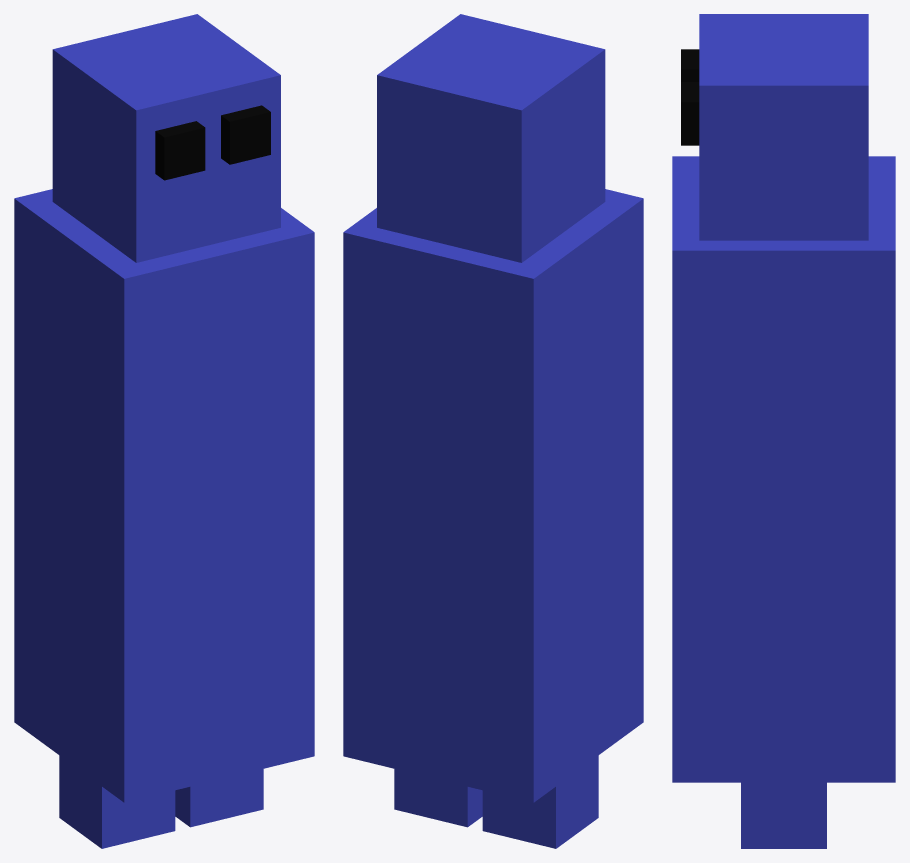
Rendered from PlayerModel_V2.fbx.
3 views of the same model, side by side, from view 1: azimuth 30°, elevation 25°; view 2: azimuth 150°, elevation 25°; view 3: azimuth 270°, elevation 25° (orthographic).
Visible parts, largest first — view 1: root (×6); view 2: root (×4); view 3: root (×5).
Part boxes in pixels (bbox=[...]): root (×6): bbox=[14, 14, 314, 848]; root (×4): bbox=[343, 14, 643, 848]; root (×5): bbox=[672, 14, 895, 848].
Bounding box in the file's own units: 0.162 × 0.6093 × 0.162.
Materials: 5 (2 with a texture image).
